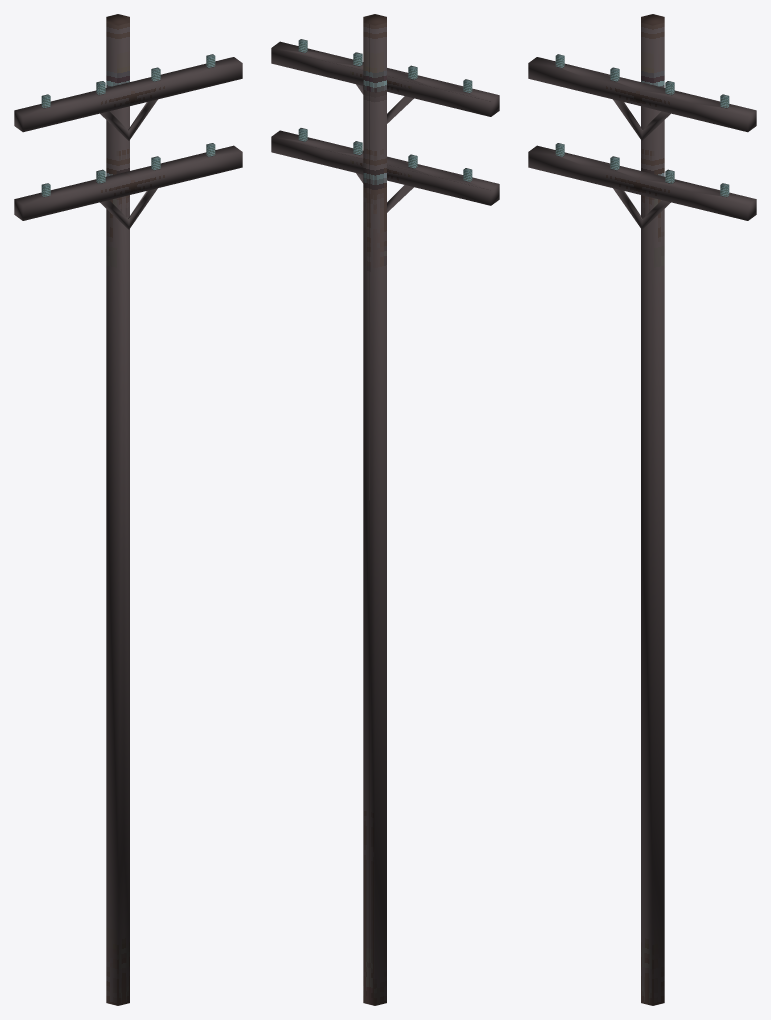
The model's file is powerline2.glb.
3 renders of one model, left to right at view 1: azimuth 30°, elevation 25°; view 2: azimuth 150°, elevation 25°; view 3: azimuth 330°, elevation 25°, orthographic.
Visible parts, largest first — view 1: powerline; view 2: powerline; view 3: powerline.
Boxes of the visible parts, x1,y1,x2,y2 form: powerline: (14, 14, 242, 1005); powerline: (271, 14, 499, 1005); powerline: (528, 14, 756, 1005).
Size of the model in its own units: 0.9419 by 4.02 by 0.1536.
Materials: 1 (1 with a texture image).
